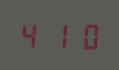four: (18, 19, 44, 49)
one: (46, 19, 72, 50)
zero: (73, 20, 99, 50)
